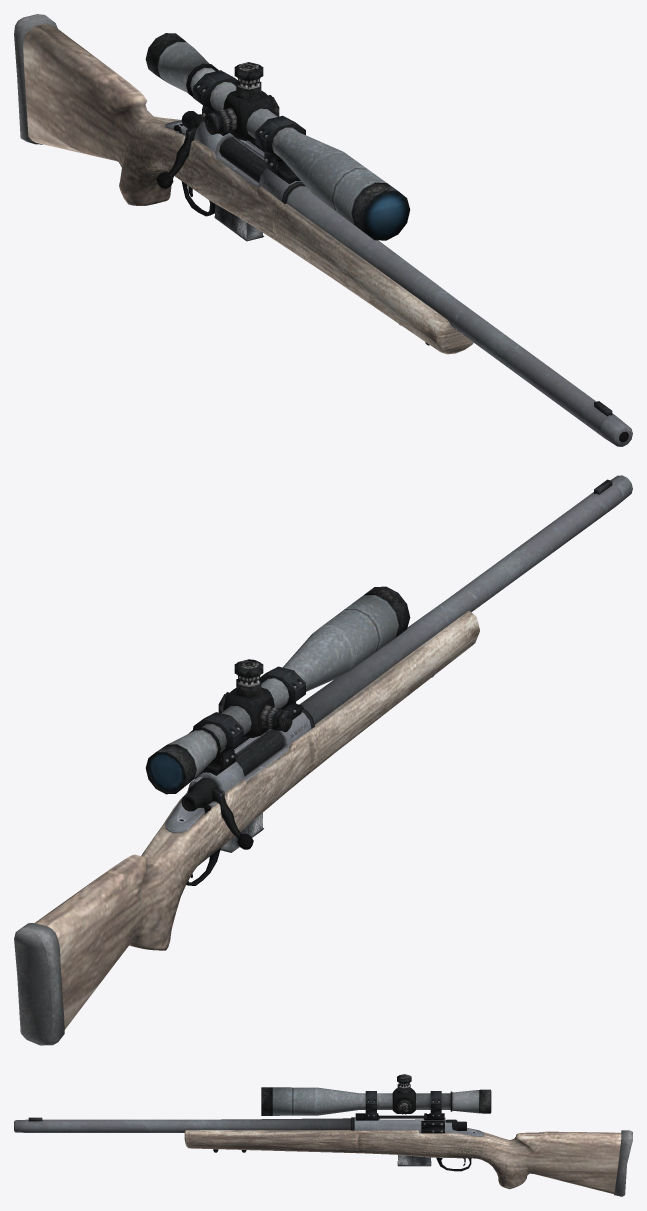
The model's file is Weapon_M24_3P_LOD0.glb.
3 renders of one model, top to bottom at view 1: azimuth 30°, elevation 25°; view 2: azimuth 150°, elevation 25°; view 3: azimuth 270°, elevation 25°, orthographic. The views are drawn at different scales.
Parts seen in each view (by area): view 1: Hoodie; view 2: Hoodie; view 3: Hoodie.
Part boxes in pixels (x1,y1,x2,y2): Hoodie: [14, 14, 632, 446]; Hoodie: [14, 475, 632, 1045]; Hoodie: [14, 1074, 632, 1196].
Size of the model in its own units: 0.0835 by 0.2505 by 1.18.
1 material, 1 textured.
